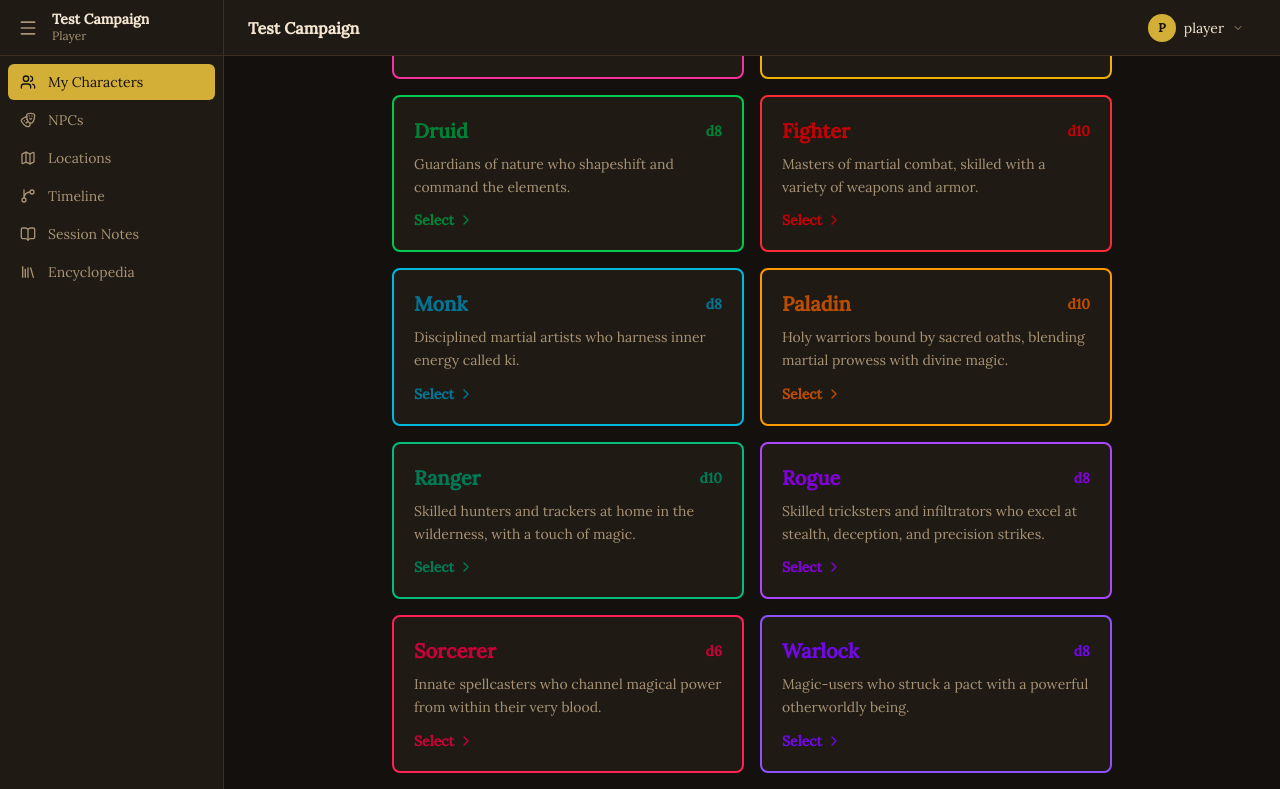
it: CharacterCreate › shows race cards on identity step
This screenshot has width=1280, height=789.
(page scrolled)
Click the text "Rogue". click: (811, 478)
box: [782,464,840,492]
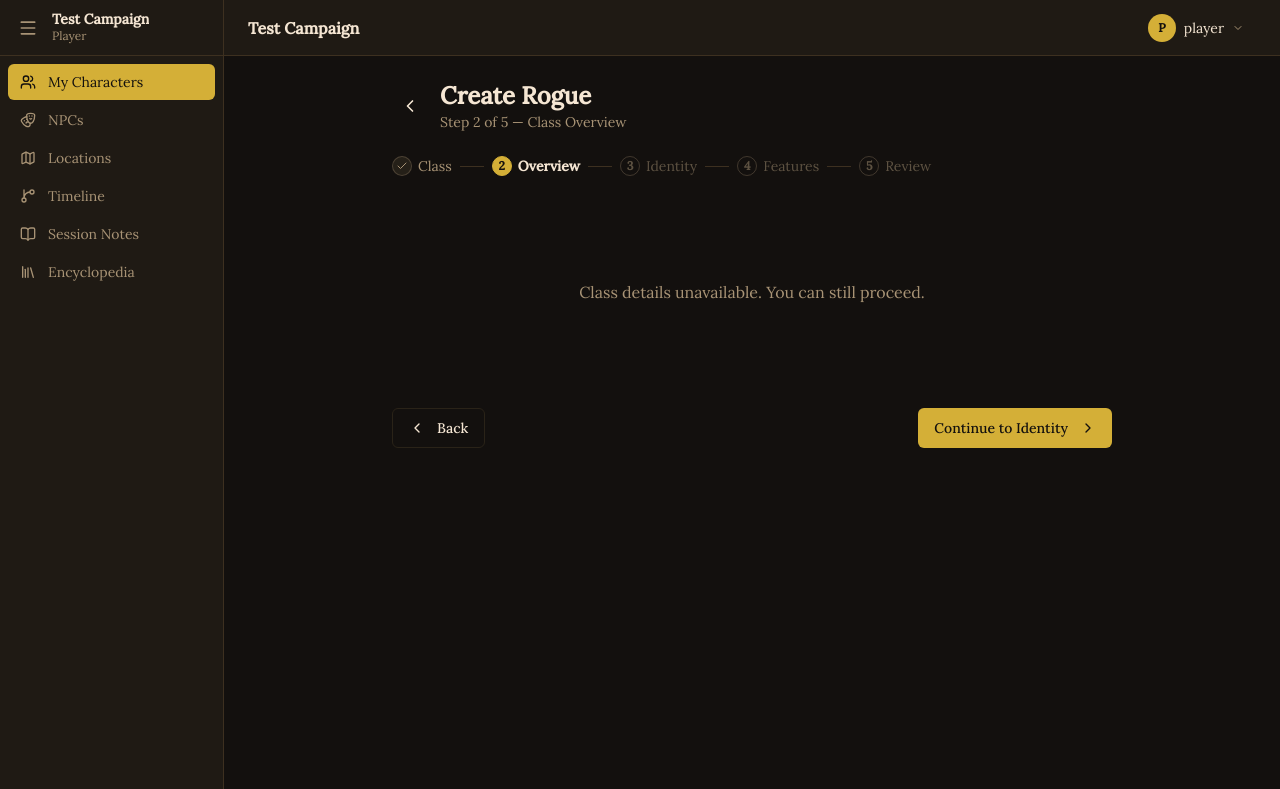
Expected: the button with test id "overview-next" is shown
Click the button with test id "overview-next". click: (1015, 428)
box: [918,408,1112,448]
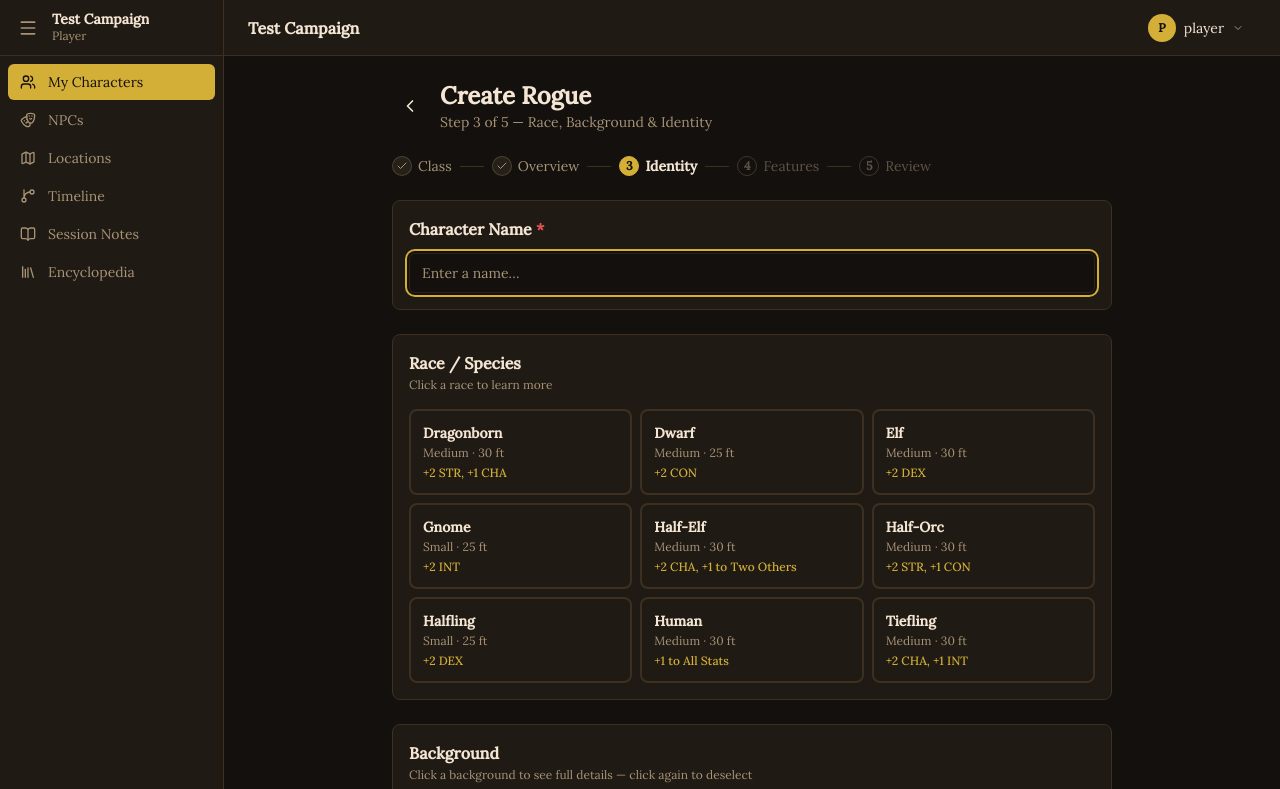
Expected: the field with placeholder "Enter a name…" is shown, [409,253,1095,293]
Expected: the button with test id "race-card-Human" is shown, [640,597,864,683]
Expected: the button with test id "race-card-Elf" is shown, [872,409,1095,495]
